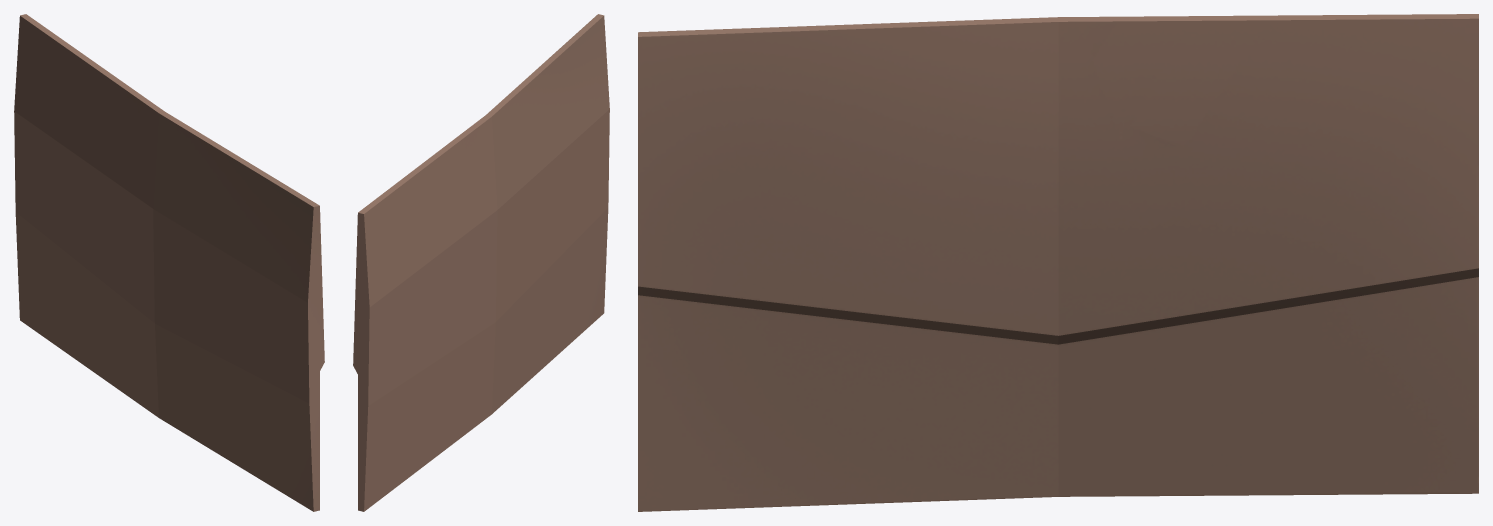
Rendered from letter.fbx.
3 views of the same model, side by side, from view 1: azimuth 30°, elevation 25°; view 2: azimuth 150°, elevation 25°; view 3: azimuth 270°, elevation 25° (orthographic). The views are drawn at different scales.
Visible parts, largest first — view 1: letter; view 2: letter; view 3: letter.
Part boxes in pixels (box(x1,y1,x2,y2)): letter: box(14, 14, 324, 511); letter: box(353, 14, 609, 511); letter: box(638, 14, 1478, 511).
Bounding box in the file's own units: 2.12 × 15.09 × 24.21.
